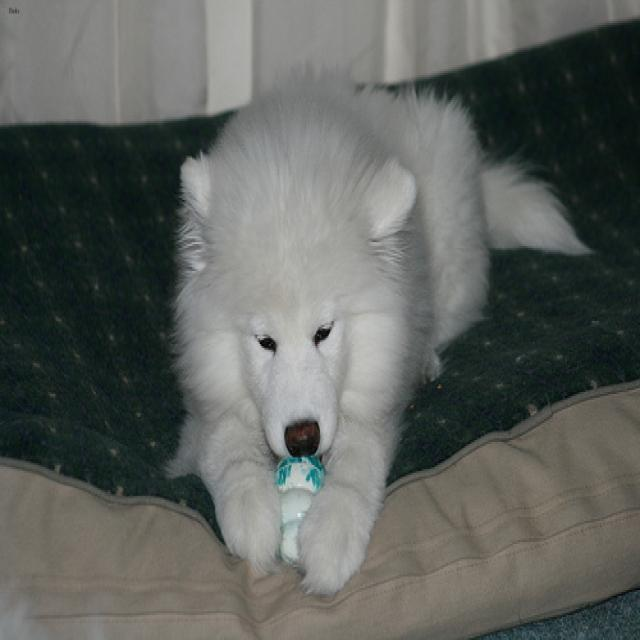dog-samoyed: (160, 60, 596, 613)
